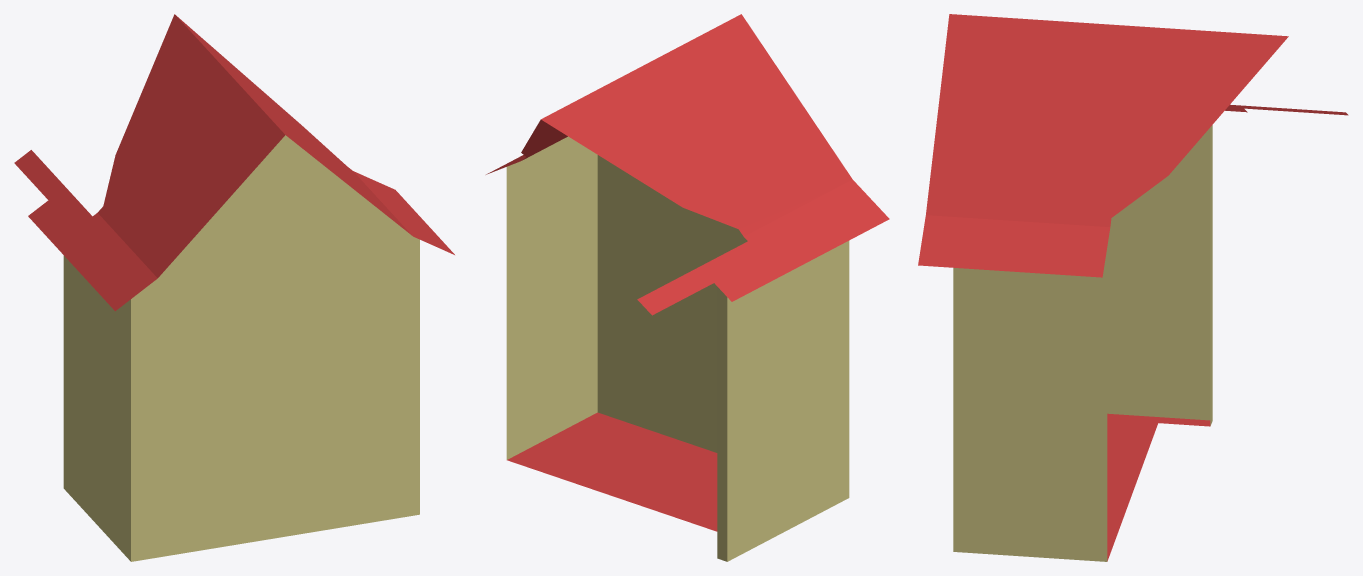
3 renders of one model, left to right at view 1: azimuth 30°, elevation 25°; view 2: azimuth 150°, elevation 25°; view 3: azimuth 270°, elevation 25°, orthographic. The views are drawn at different scales.
Size of the model in its own units: 10.44 by 10.4 by 12.35.
